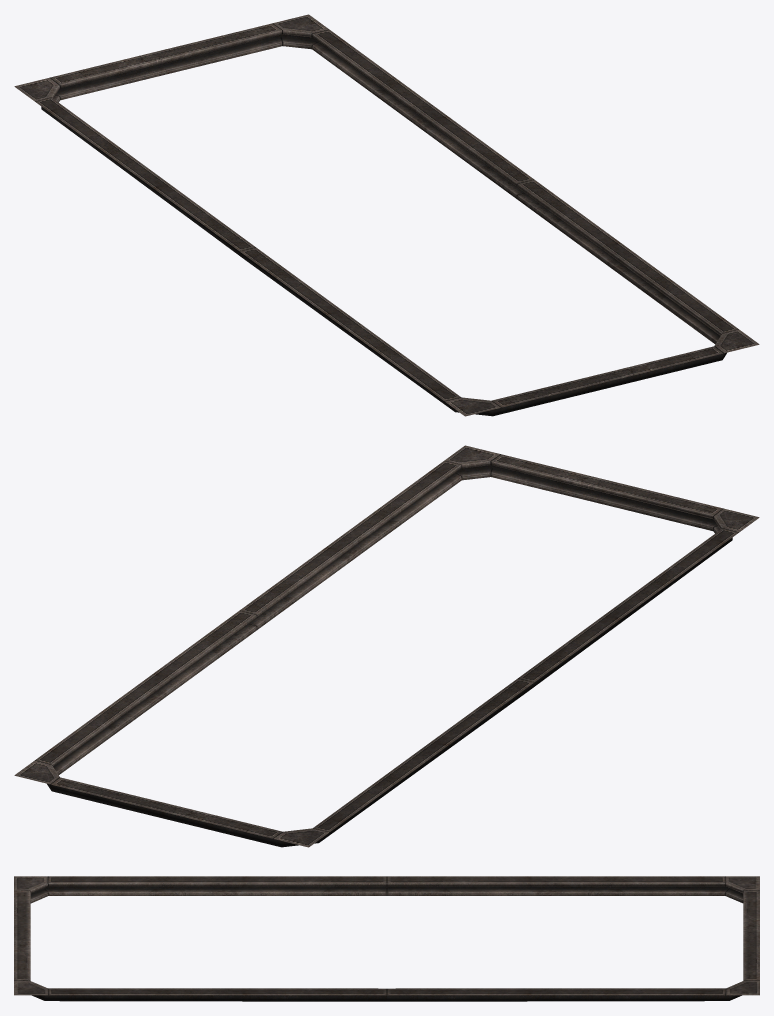
The model's file is 03_02_tunnel_window_shutter_open.dae.
The picture shows the model from 3 angles, top to bottom: view 1: azimuth 30°, elevation 25°; view 2: azimuth 150°, elevation 25°; view 3: azimuth 270°, elevation 25°; orthographic projection. The views are drawn at different scales.
Visible parts, largest first — view 1: polySurface1; view 2: polySurface1; view 3: polySurface1.
Part boxes in pixels (x1,y1,x2,y2): polySurface1: (14, 14, 759, 416); polySurface1: (14, 445, 759, 847); polySurface1: (14, 876, 759, 1001).
Bounding box in the file's own units: 2.2 × 0.1096 × 5.82.
